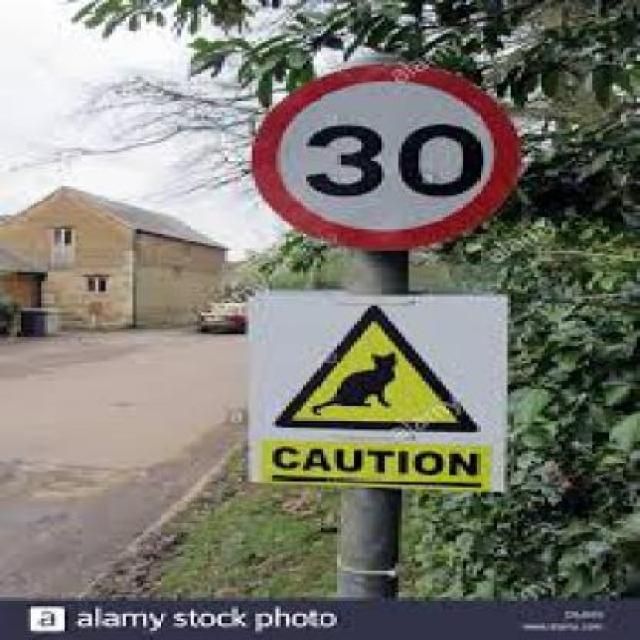forb_speed_over_30: (259, 65, 518, 246)
